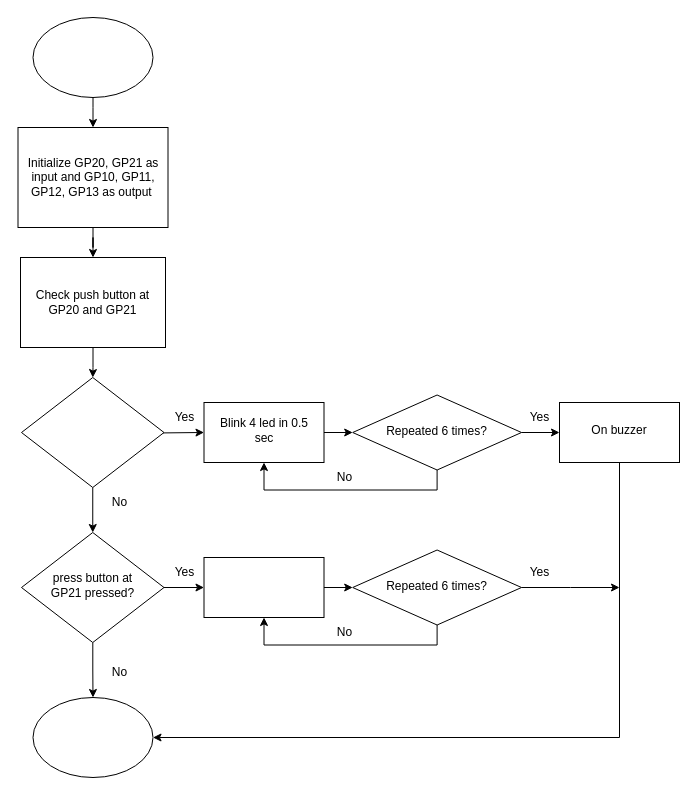
The diagram is 697 pixels wide and 795 high, and some of its shapes have lost their labels. The centre of each missing label's shape, as x and y in pixels:
"End" goes at point 92,737.
"press button at GP20 pressed?" goes at point 92,432.
"Shifting 4 led form left-to-right and right-to-left" goes at point 263,587.
"Start" goes at point 92,57.
